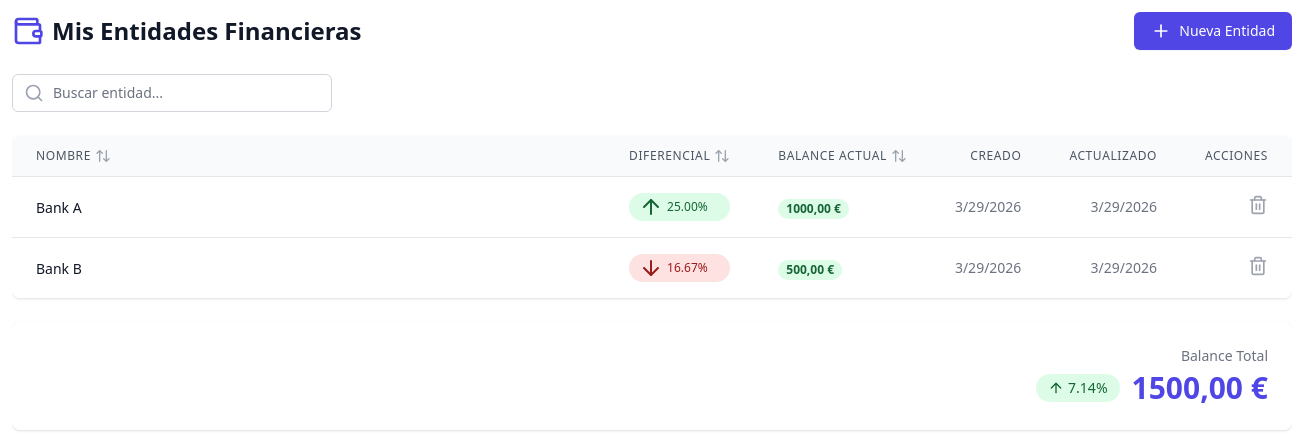
Scenario: DashboardPage › USER Role › filters items by search term
Expected: the link "Bank A" is shown, top-left (36, 198), bottom-right (82, 217)
In the field with placeholder "Buscar entidad...": point(172, 93) top-left (12, 74), bottom-right (332, 112), type "Bank B"
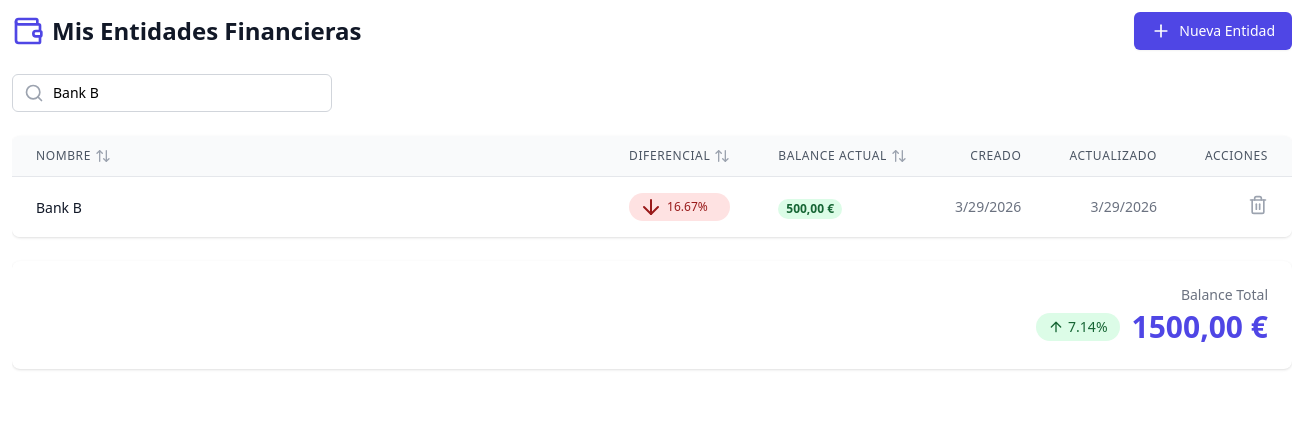
Expected: the link "Bank B" is shown, top-left (36, 198), bottom-right (82, 217)
Now the link "Bank A" is gone
